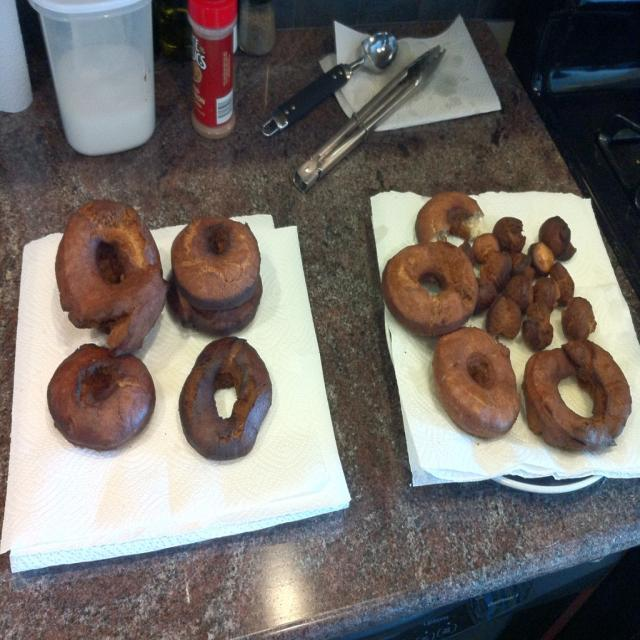Bagel: (56, 199, 170, 359), (168, 211, 263, 340), (47, 340, 154, 451), (181, 334, 276, 458), (524, 343, 632, 450), (437, 326, 520, 439), (384, 242, 478, 338)
